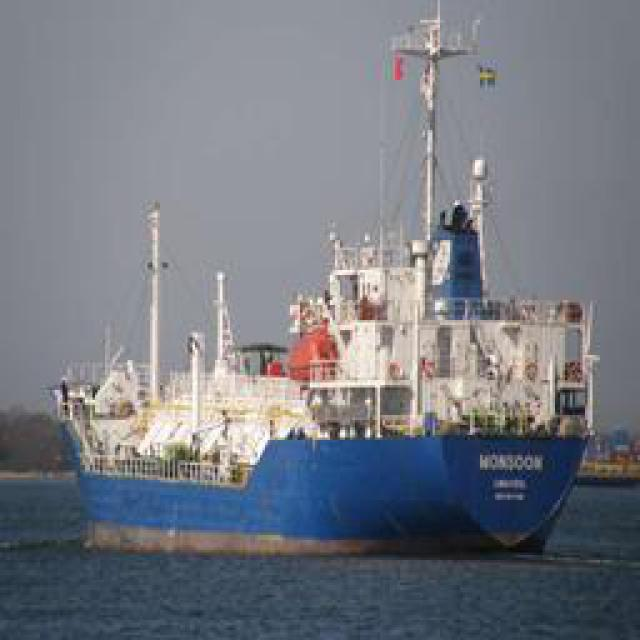Ship: (55, 45, 598, 553)
